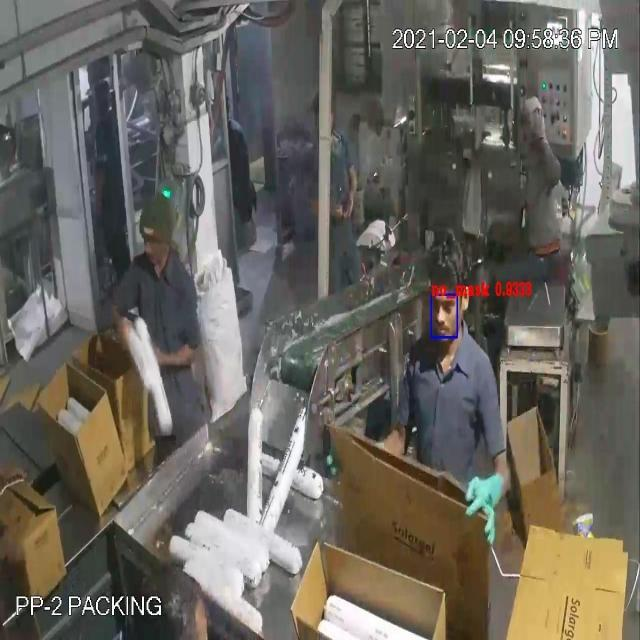No_Gloves: (19, 46, 496, 506)
